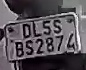2: (34, 39, 44, 54)
4: (66, 33, 77, 51)
5: (41, 19, 52, 37)
7: (55, 35, 65, 51)
8: (45, 38, 56, 52)
B: (10, 39, 26, 57)
D: (21, 25, 31, 40)
L: (33, 22, 43, 37)
S: (52, 19, 65, 35), (26, 41, 34, 55)
